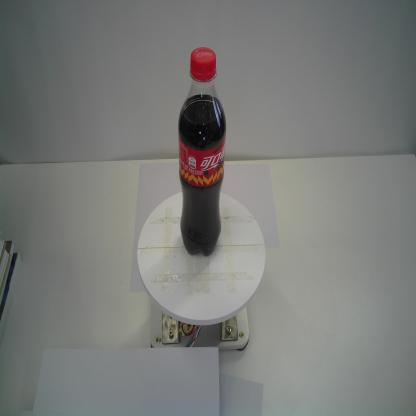Drink: (176, 44, 228, 259)
